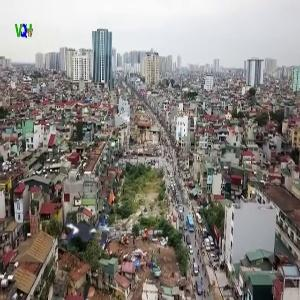drone: (40, 189, 130, 279)
